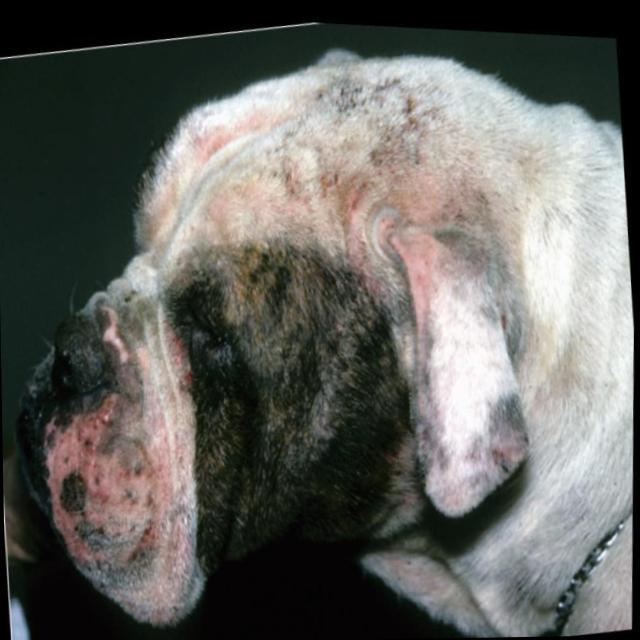allergic dermatitis: (44, 403, 157, 567), (368, 199, 441, 348)
